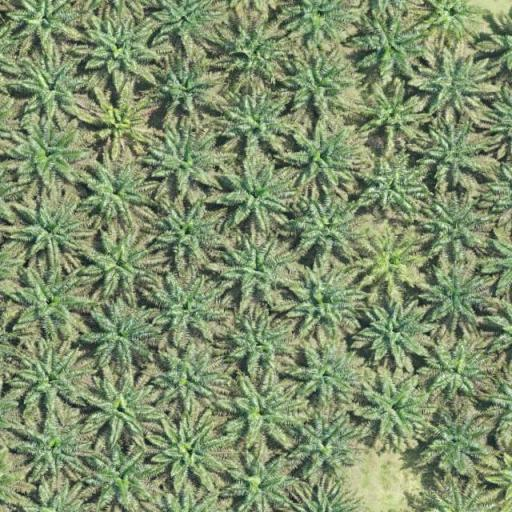Ganoderma: (367, 242, 416, 282), (94, 102, 140, 140)
